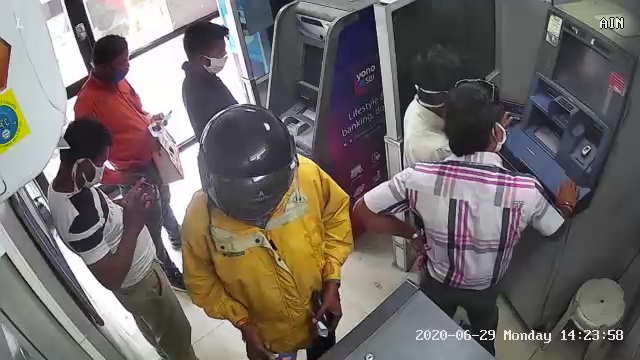helmet: (191, 104, 312, 224)
